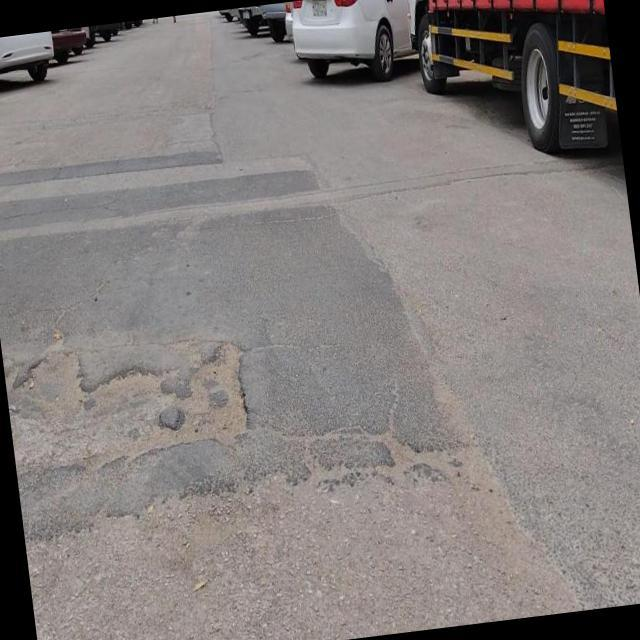Pothole: (157, 337, 251, 452), (83, 360, 164, 469)
